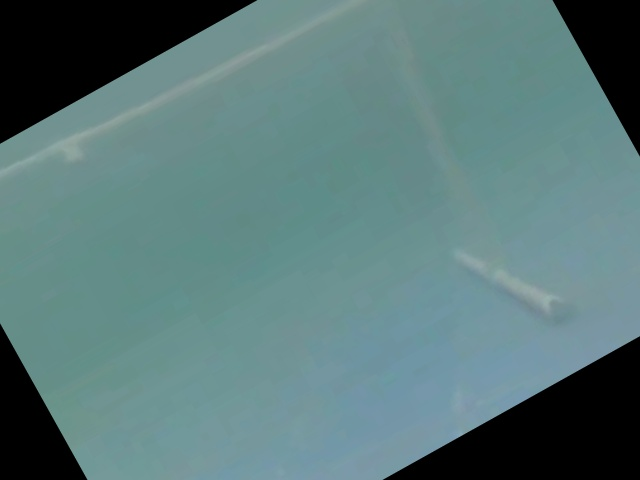gate: (3, 7, 582, 352)
